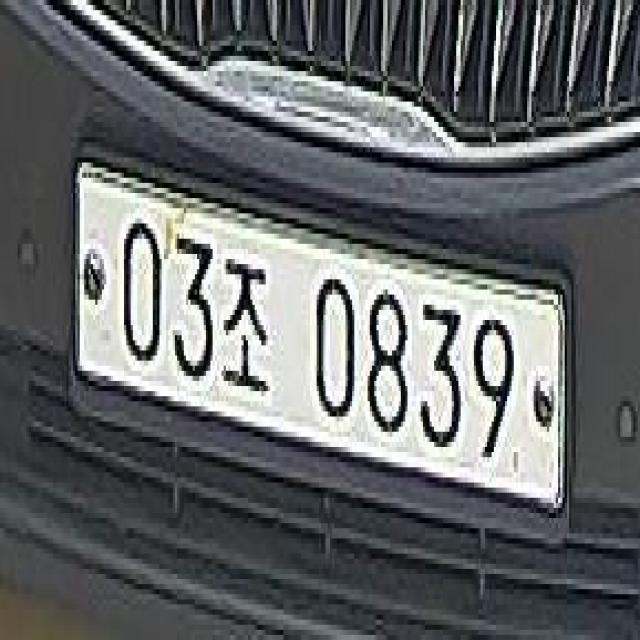illegal_plate: (74, 147, 564, 529)
